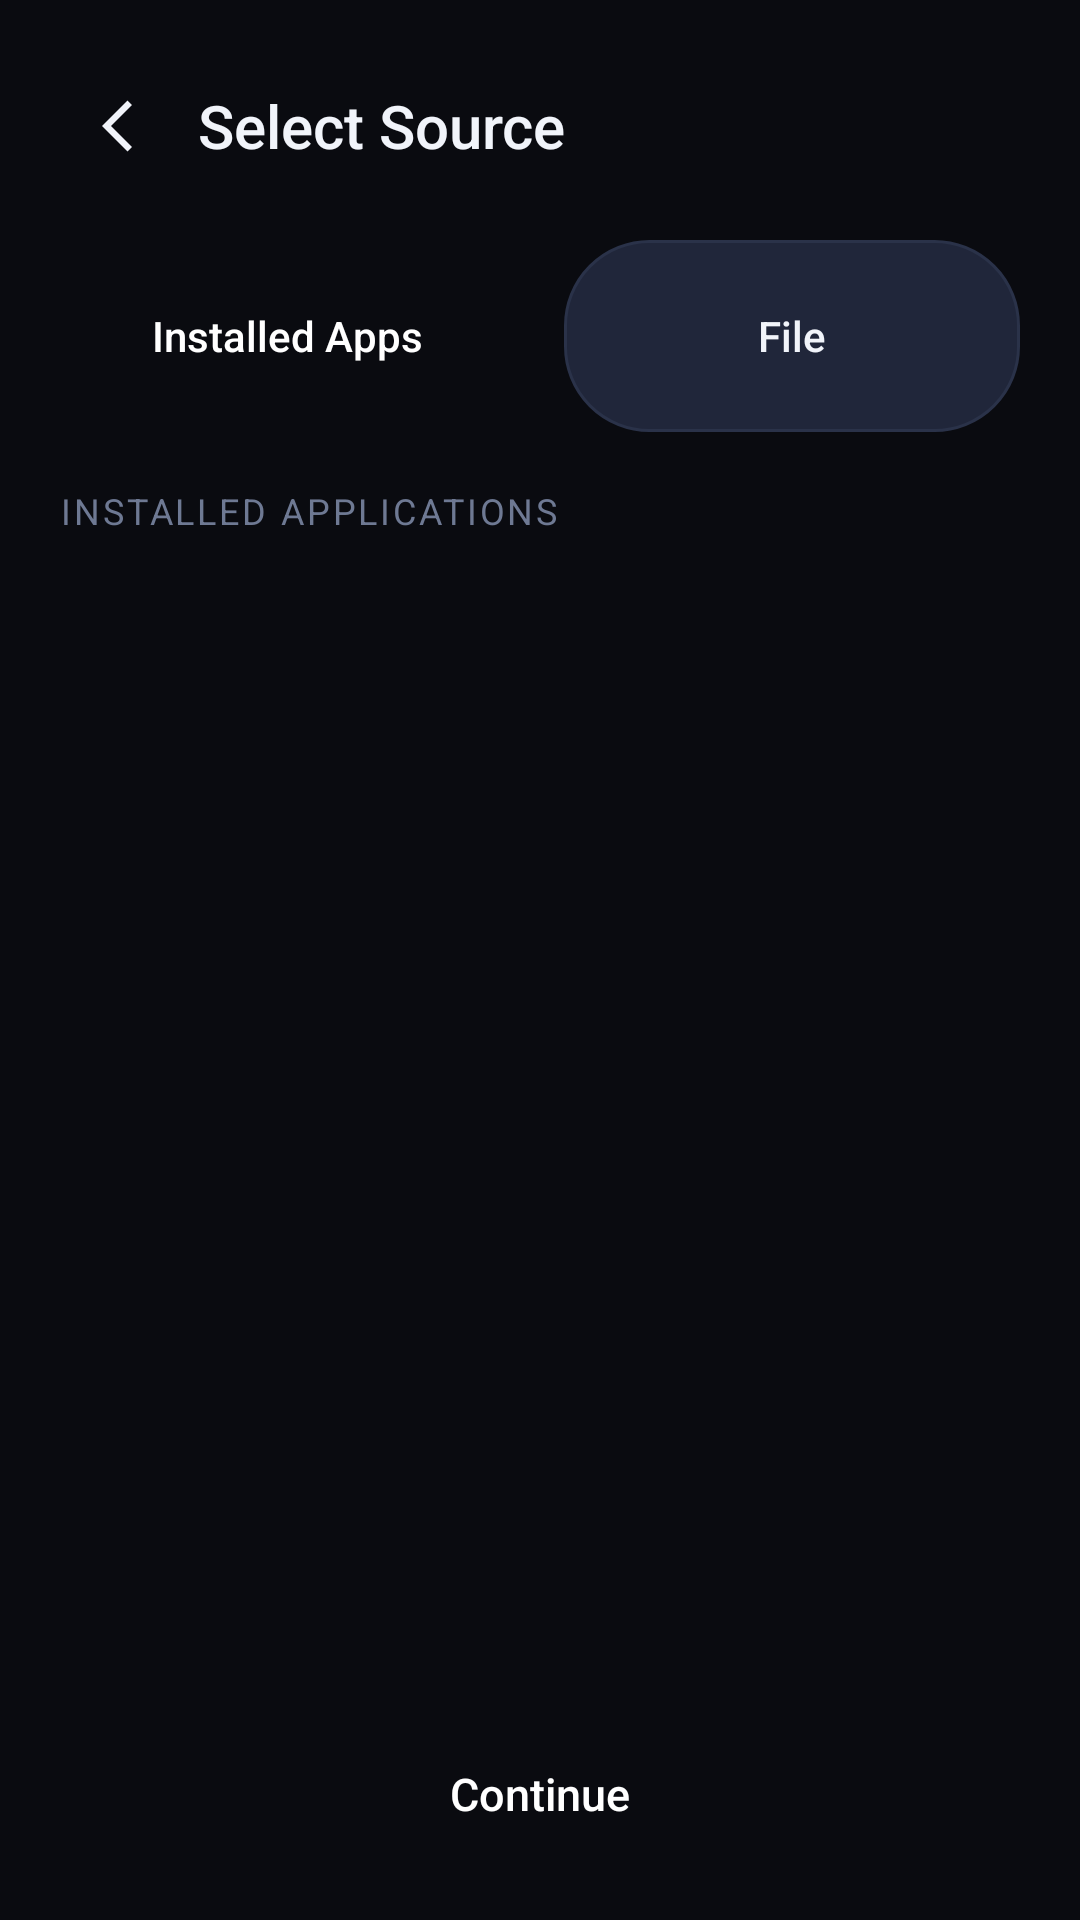

Icon bounding boxes for this 1080x1920 phone screenshot, format rect(x1, y1, x2, y2):
back: rect(102, 100, 132, 152)
